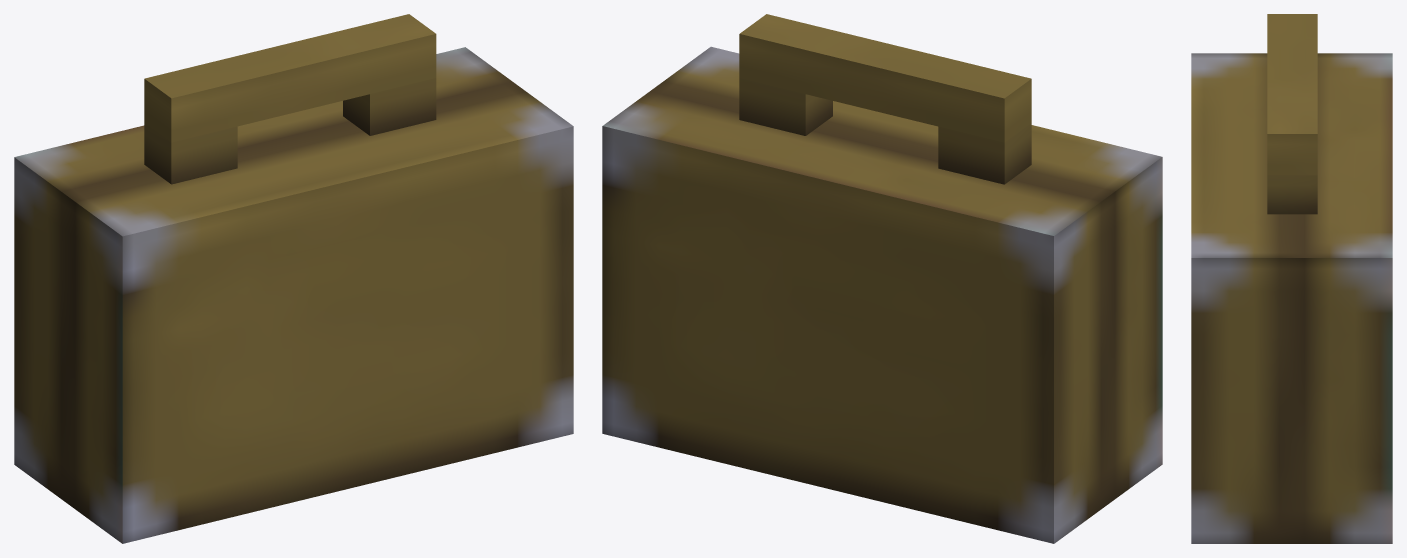
The model's file is Luggage_1.fbx.
3 views of the same model, side by side, from view 1: azimuth 30°, elevation 25°; view 2: azimuth 150°, elevation 25°; view 3: azimuth 270°, elevation 25° (orthographic). The views are drawn at different scales.
Parts seen in each view (by area): view 1: Luggage; view 2: Luggage; view 3: Luggage.
Part boxes in pixels (x1,y1,x2,y2): Luggage: (14,14,573,543); Luggage: (602,14,1162,543); Luggage: (1191,14,1392,543).
Size of the model in its own units: 254 by 212 by 106.
